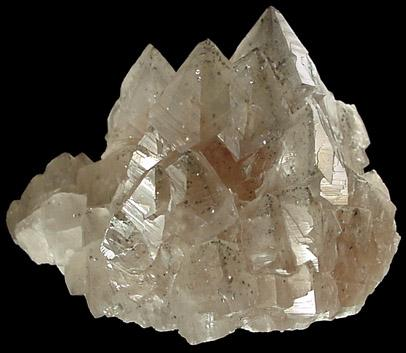calcite: (7, 7, 401, 344)
